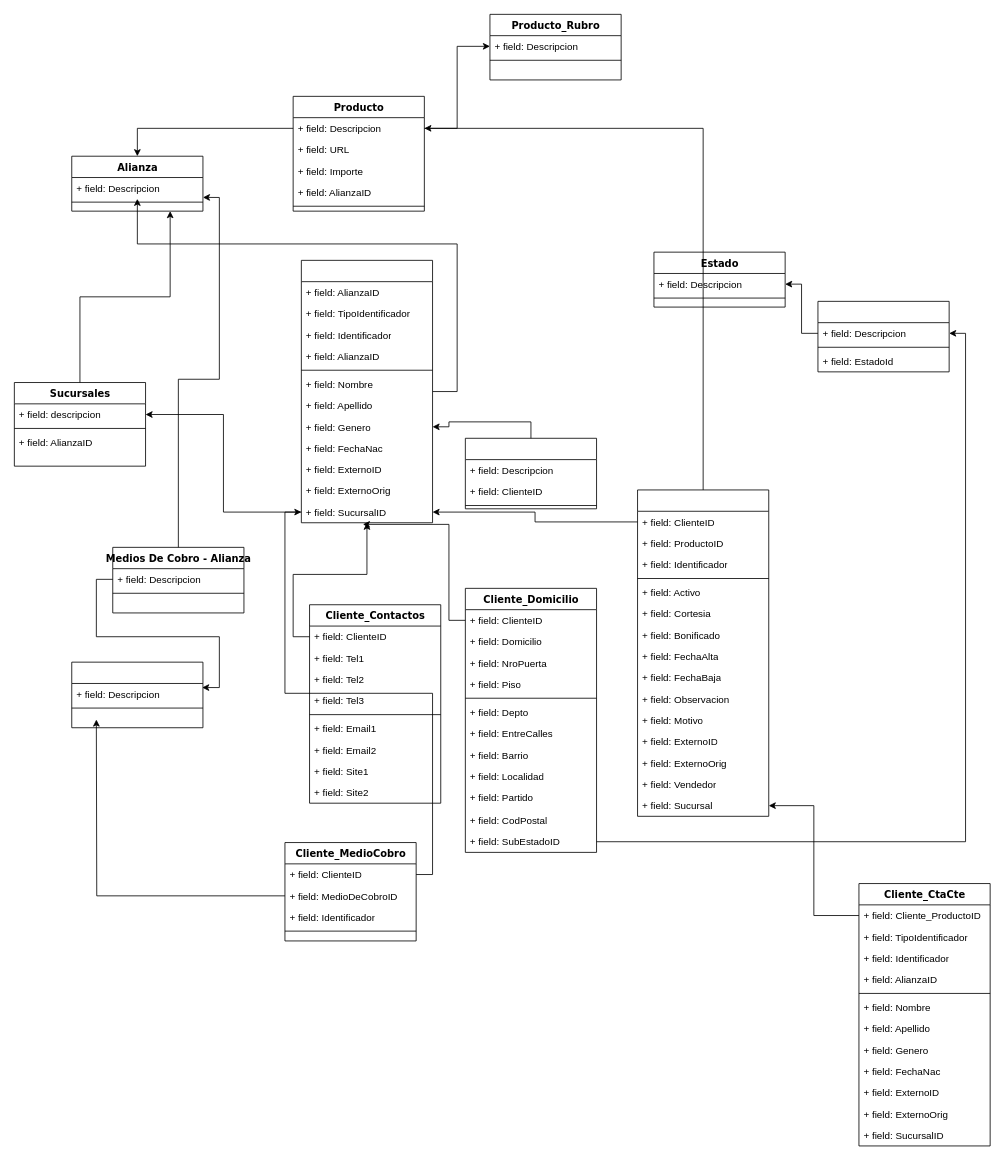
Some shapes in this 1005 by 1163 pixel diagram are drawn without their labels. Each missing label, with the box of its shape:
Cliente: (301, 260, 433, 523)
Cliente_Archivo: (465, 437, 597, 509)
Cliente_Producto: (637, 489, 769, 816)
Medios De Cobro: (71, 661, 203, 728)
SubEstado: (817, 301, 949, 372)
